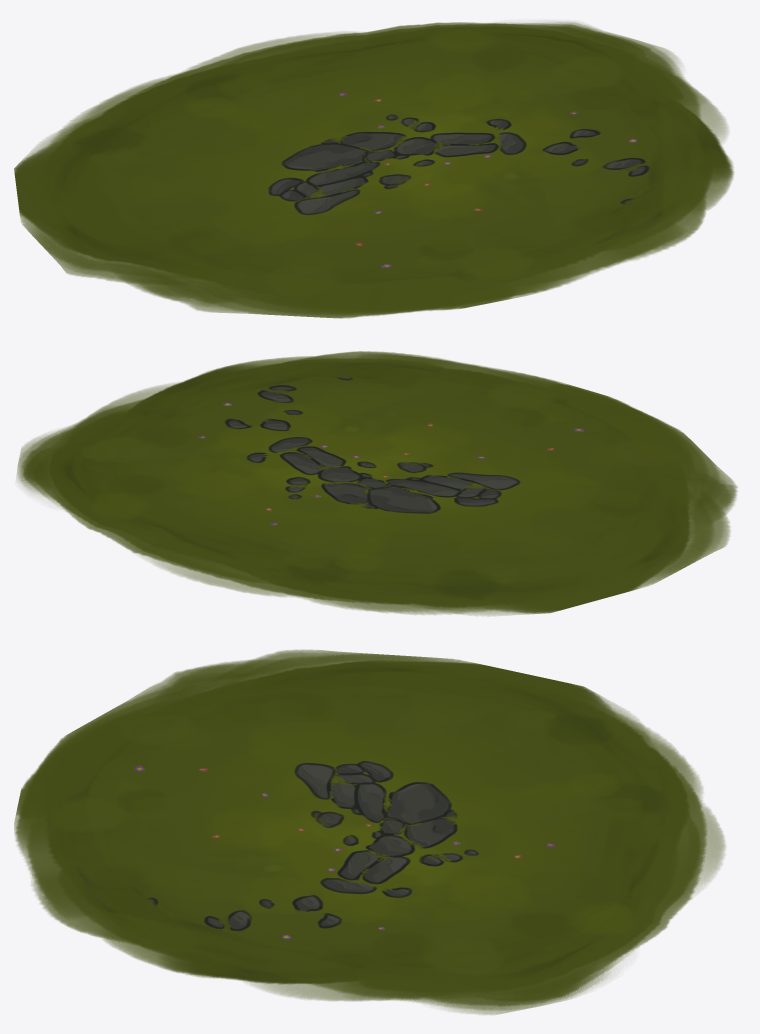
Rendered from pcylinder1_txt_herbe_0_lev1_lev2.glb.
The picture shows the model from 3 angles, top to bottom: view 1: azimuth 30°, elevation 25°; view 2: azimuth 150°, elevation 25°; view 3: azimuth 270°, elevation 25°; orthographic projection. The views are drawn at different scales.
Parts seen in each view (by area): view 1: pcylinder1_txt_herbe_0_lev1_lev2; view 2: pcylinder1_txt_herbe_0_lev1_lev2; view 3: pcylinder1_txt_herbe_0_lev1_lev2.
Boxes of the visible parts, <box> form: pcylinder1_txt_herbe_0_lev1_lev2: <box>14,21,733,318</box>; pcylinder1_txt_herbe_0_lev1_lev2: <box>16,351,737,615</box>; pcylinder1_txt_herbe_0_lev1_lev2: <box>14,649,725,1014</box>.
Size of the model in its own units: 41.2 by 0.6955 by 34.44.
Materials: 1 (1 with a texture image).
